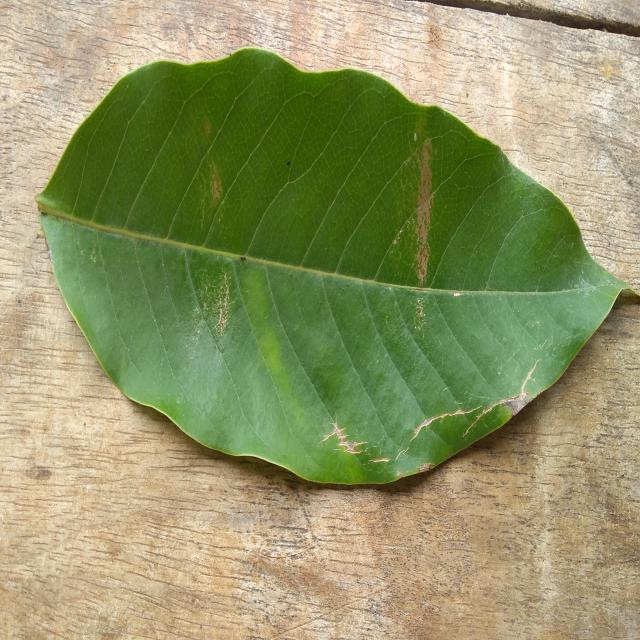sampige: (36, 49, 630, 484)
